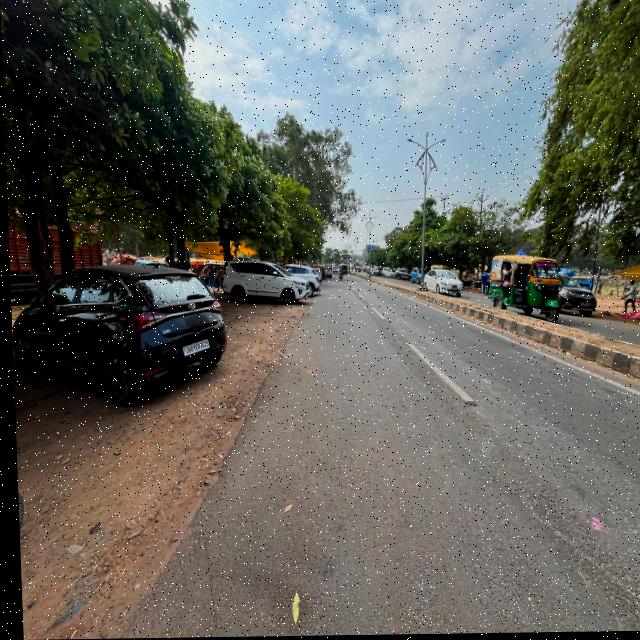bike: (337, 271, 343, 283)
car: (19, 257, 224, 411), (220, 251, 301, 314), (560, 274, 596, 320), (422, 269, 464, 300), (289, 257, 321, 295), (407, 268, 420, 285), (391, 269, 408, 281), (319, 266, 333, 280), (379, 266, 394, 279)
